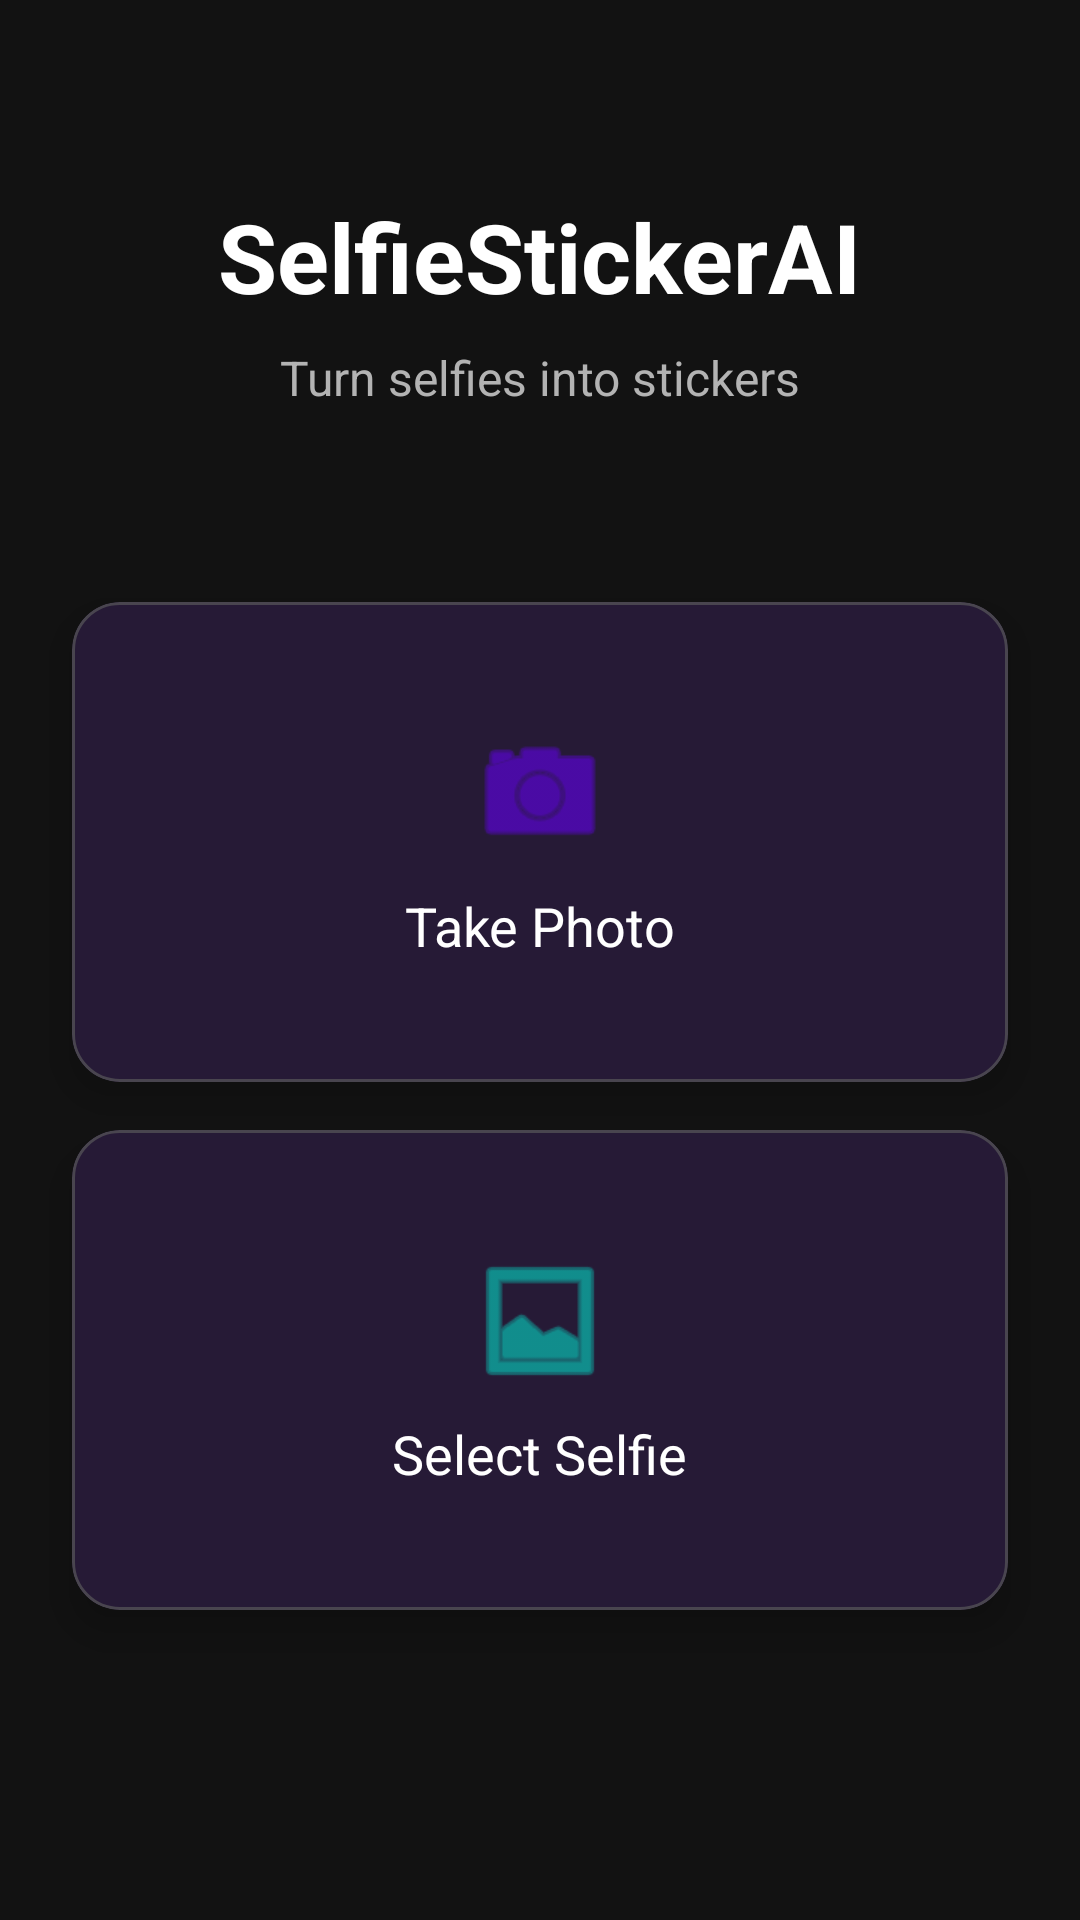

Icon bounding boxes for this 1080w x 1920h phone screenshot, format [x1, y1, x2, y2]:
camera: [484, 747, 596, 835]
gallery: [486, 1267, 594, 1375]
